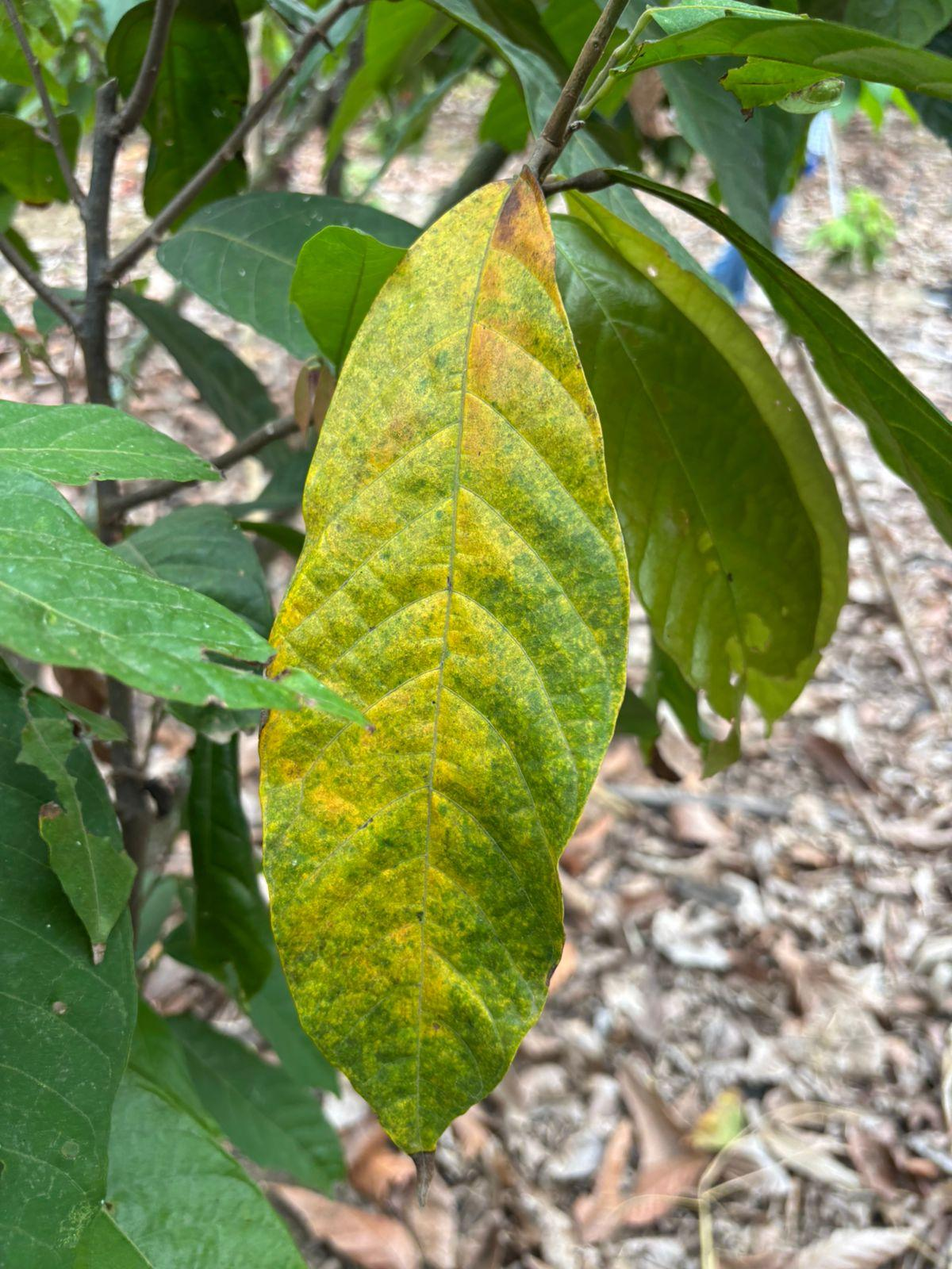Fosforo: (260, 171, 628, 1166)
